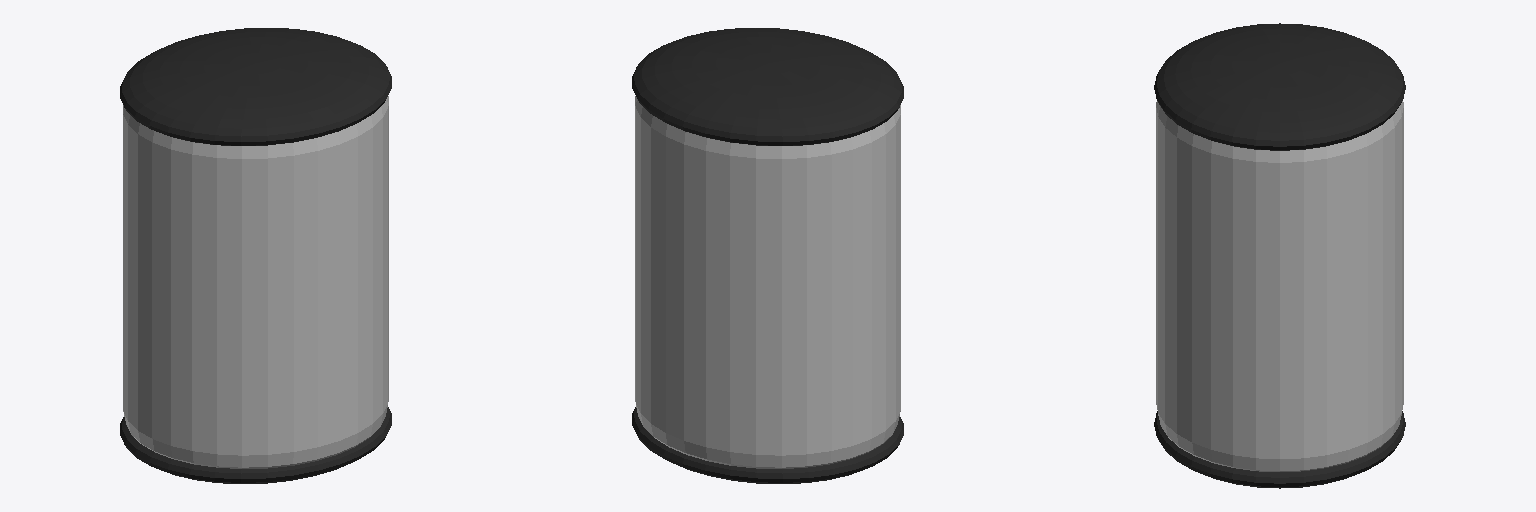
Rendered from Beanz.obj.
3 views of the same model, side by side, from view 1: azimuth 30°, elevation 25°; view 2: azimuth 150°, elevation 25°; view 3: azimuth 270°, elevation 25° (orthographic).
Parts seen in each view (by area): view 1: Cylinder; view 2: Cylinder; view 3: Cylinder.
Boxes of the visible parts, x1=… form: Cylinder: x1=120, y1=28, x2=391, y2=483; Cylinder: x1=632, y1=28, x2=903, y2=483; Cylinder: x1=1154, y1=23, x2=1405, y2=488.
Bounding box in the file's own units: 0.8022 × 1.22 × 0.72.